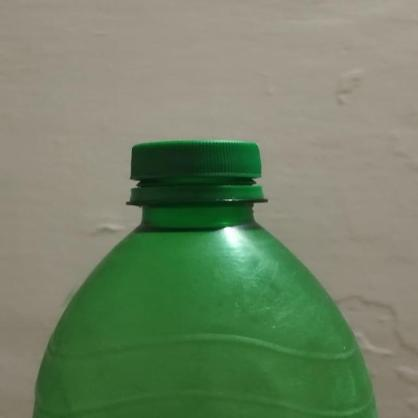cap: (132, 139, 262, 203)
